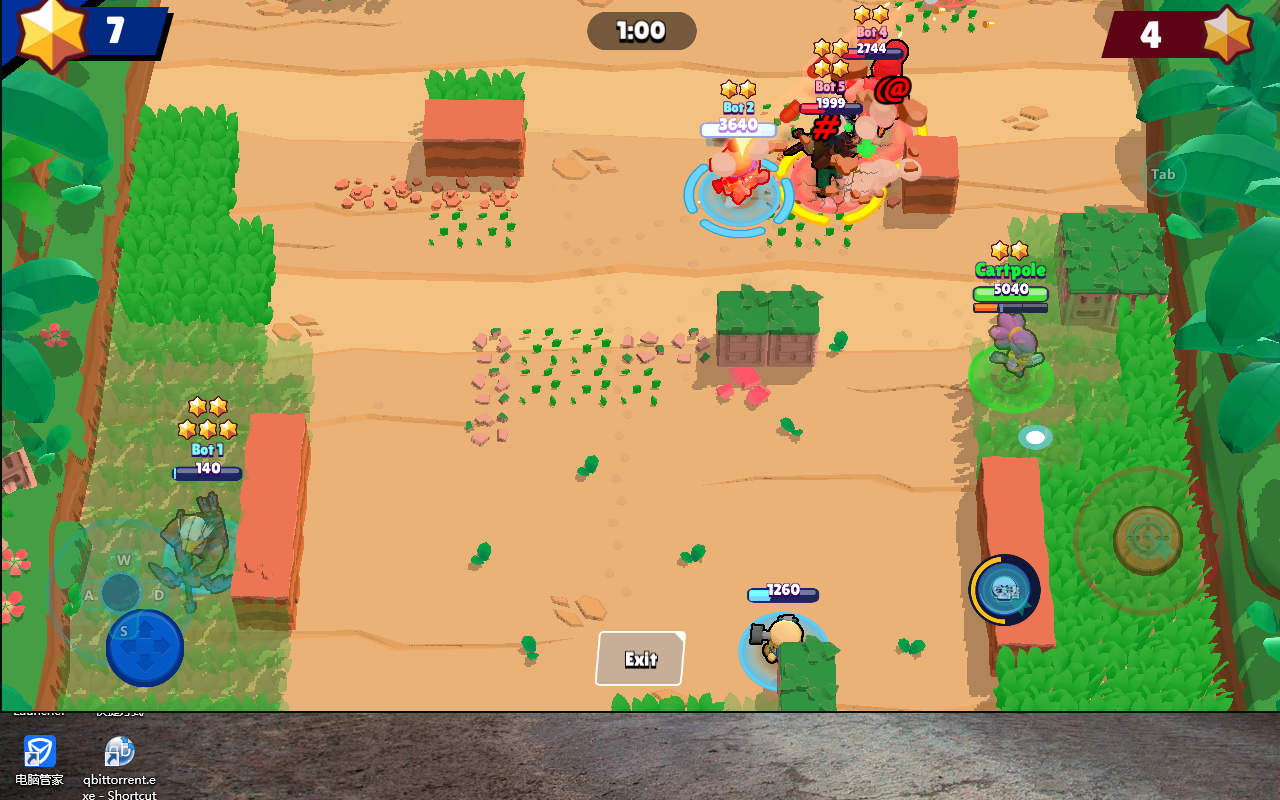current_player: (969, 345, 1054, 416)
